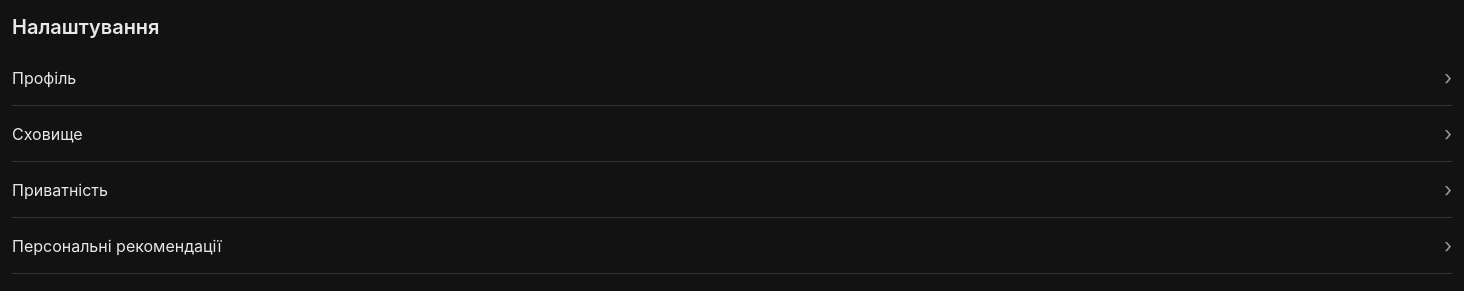
it: Settings › a null profile renders the honest stub, not the code entry
Click the button "Профіль ›". click: (44, 78)
box: 12,50 -> 1452,106
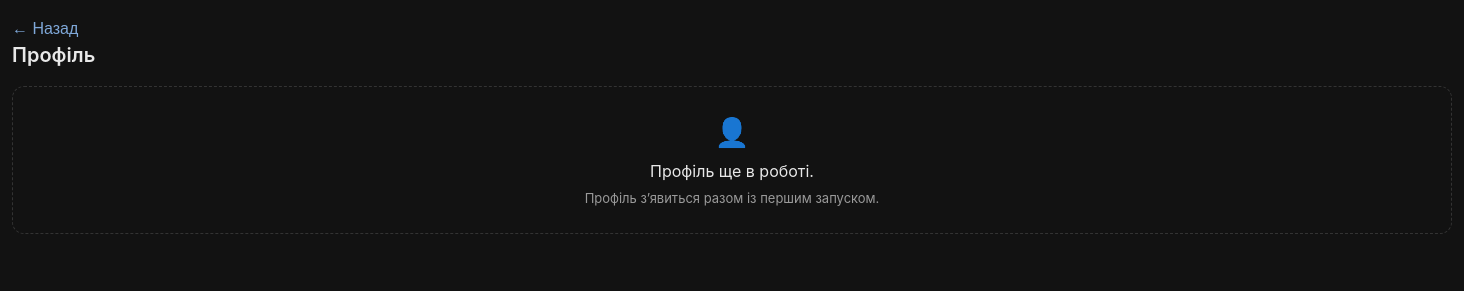
Check: the text "Профіль ще в роботі." is shown, box 650,161 -> 814,181
